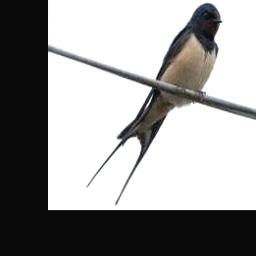Swallow: (86, 3, 223, 205)
